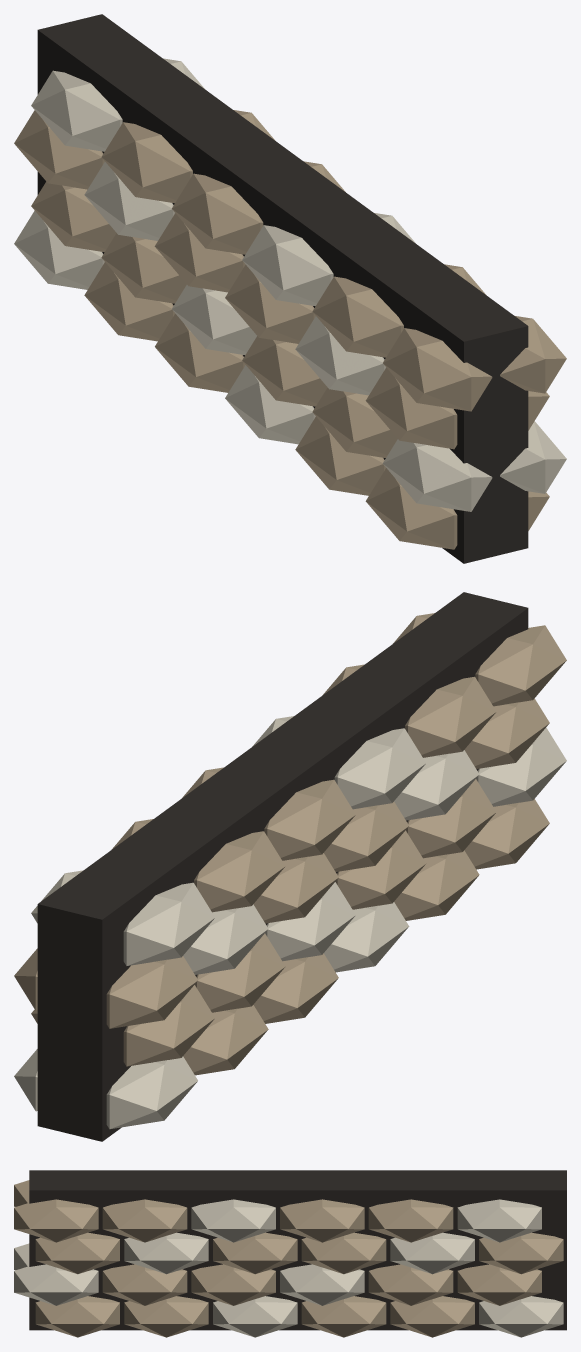
Rendered from DryStone__Wall.fbx.
3 renders of one model, top to bottom at view 1: azimuth 30°, elevation 25°; view 2: azimuth 150°, elevation 25°; view 3: azimuth 270°, elevation 25°, orthographic. The views are drawn at different scales.
Visible parts, largest first — view 1: DryStone__Wall; view 2: DryStone__Wall; view 3: DryStone__Wall.
Boxes of the visible parts, bbox=[...] form: DryStone__Wall: bbox=[14, 14, 566, 563]; DryStone__Wall: bbox=[14, 592, 566, 1141]; DryStone__Wall: bbox=[14, 1170, 566, 1337].
Size of the model in its own units: 77.43 by 115 by 411.
Materials: 1 (1 with a texture image).
